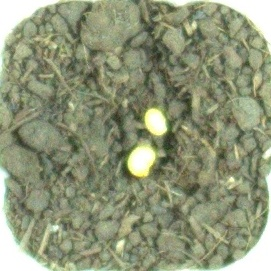chilli seed: (126, 143, 156, 179), (143, 108, 170, 136)
